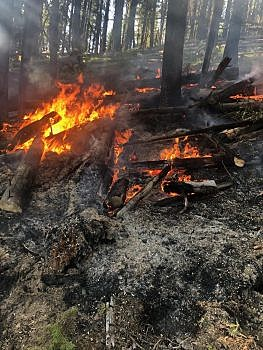fire: (119, 63, 261, 214), (11, 81, 126, 171)
